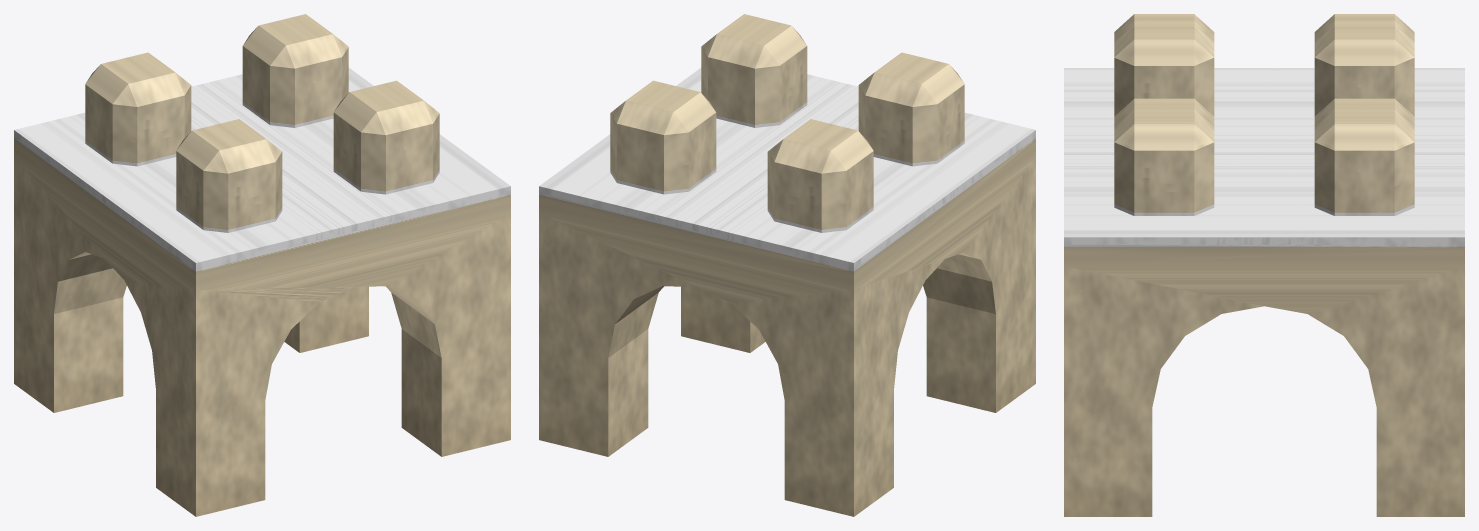
The model's file is wall_bridge.glb.
3 views of the same model, side by side, from view 1: azimuth 30°, elevation 25°; view 2: azimuth 150°, elevation 25°; view 3: azimuth 270°, elevation 25° (orthographic). The views are drawn at different scales.
Visible parts, largest first — view 1: wall; view 2: wall; view 3: wall.
Part boxes in pixels (bbox=[...]): wall: bbox=[14, 14, 510, 516]; wall: bbox=[539, 14, 1035, 516]; wall: bbox=[1064, 14, 1464, 516].
Bounding box in the file's own units: 1 × 1 × 1.
Materials: 1 (1 with a texture image).
